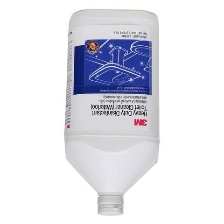cleaning_solution: (61, 7, 162, 220)
